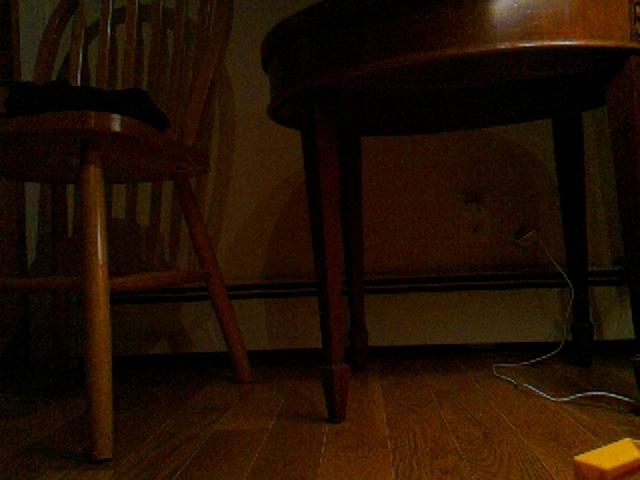yellow: (573, 436, 640, 480)
